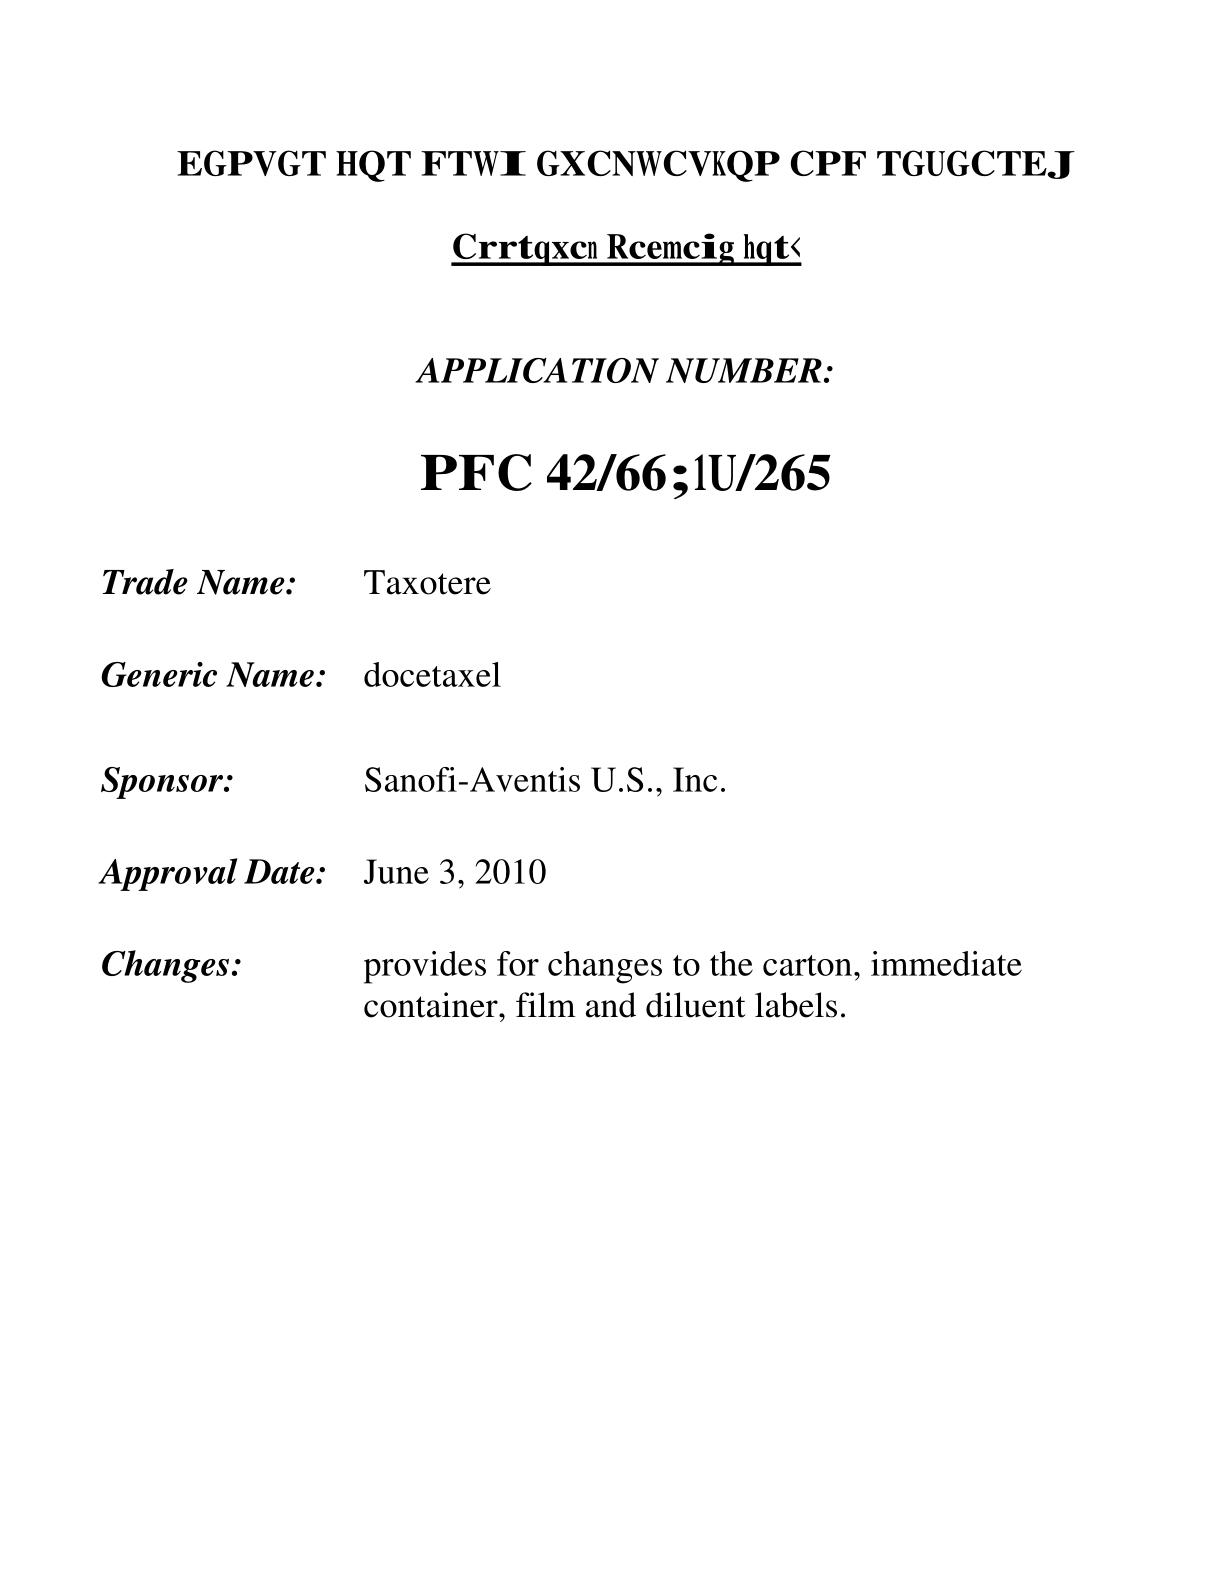nolines: (95, 567, 1029, 1023)
